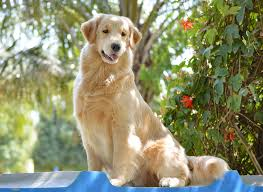Golden Retriever: (58, 10, 247, 190)
